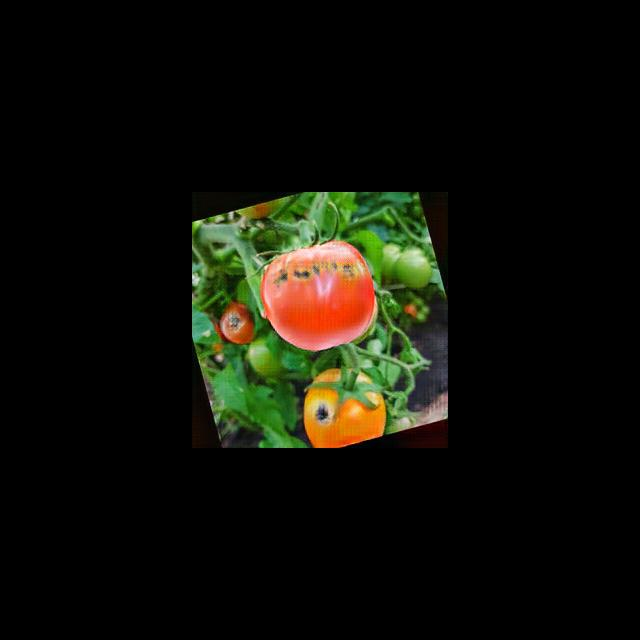tomato: (262, 239, 374, 353), (304, 366, 386, 447), (218, 300, 255, 345)
